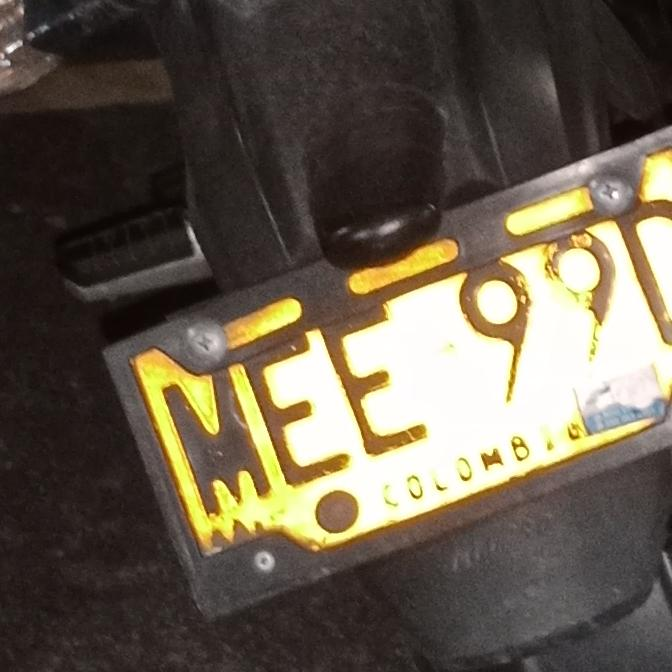plates: (113, 137, 672, 605)
